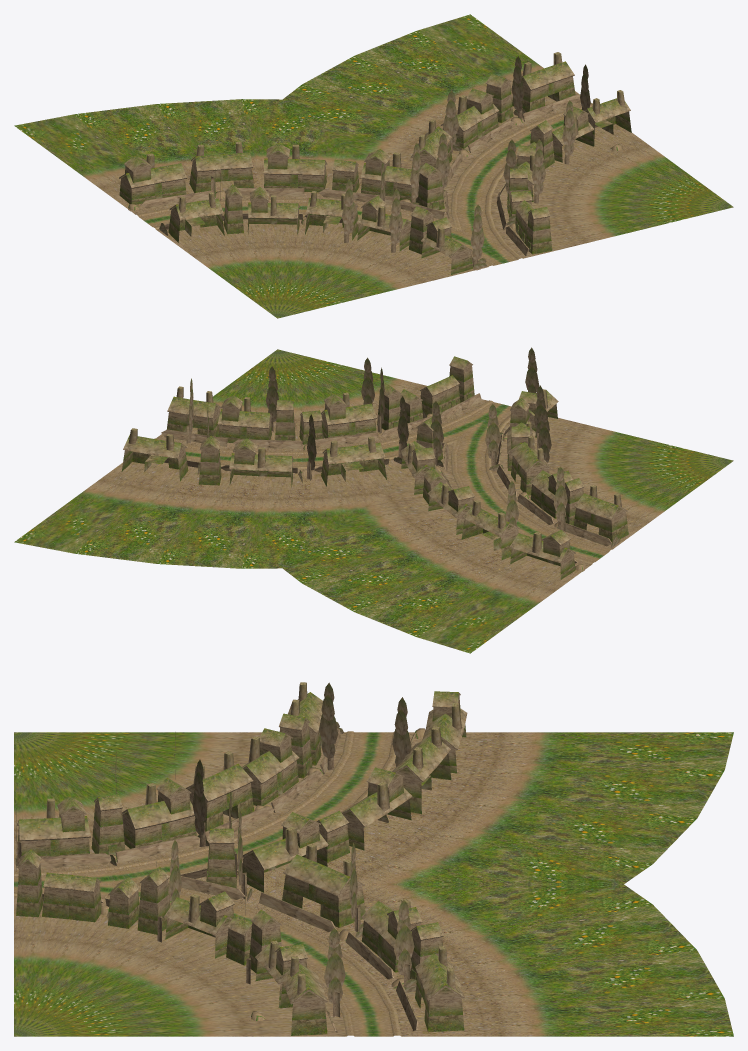
Rendered from VillageRoad02_BothCurve.FBX.
The picture shows the model from 3 angles, top to bottom: view 1: azimuth 30°, elevation 25°; view 2: azimuth 150°, elevation 25°; view 3: azimuth 270°, elevation 25°; orthographic projection. The views are drawn at different scales.
Parts seen in each view (by area): view 1: Road, House (×24), Tree (×8), Fence (×2); view 2: Road, House (×22), Tree (×4), Fence; view 3: Road, House (×26), Tree (×7), Fence (×7).
Boxes of the visible parts, x1,y1,x2,y2 form: Road: [14, 14, 733, 318]; House (×24): [119, 52, 631, 274]; Tree (×8): [342, 56, 576, 267]; Fence (×2): [140, 94, 580, 208]; Road: [14, 349, 733, 653]; House (×22): [121, 356, 628, 579]; Tree (×4): [265, 366, 567, 531]; Fence: [315, 432, 378, 447]; Road: [14, 731, 733, 1036]; House (×26): [16, 682, 467, 1035]; Tree (×7): [168, 682, 414, 1017]; Fence (×7): [18, 770, 393, 979].
Size of the model in its own units: 10000 by 1390 by 10000.
